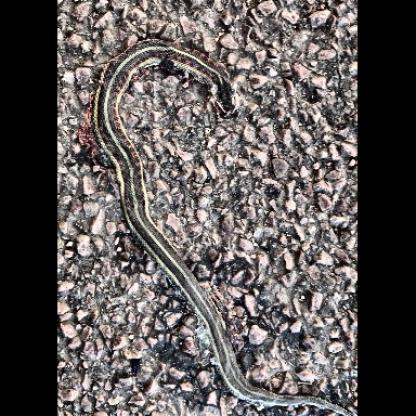Snake: (96, 34, 249, 320)
